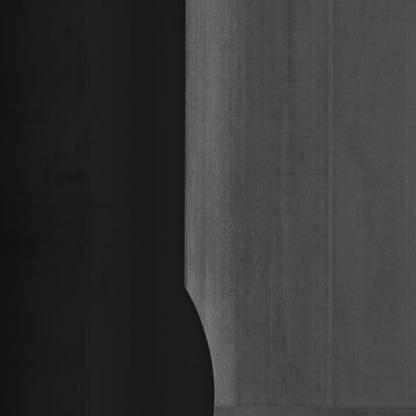crescent_gap: (175, 253, 225, 415)
